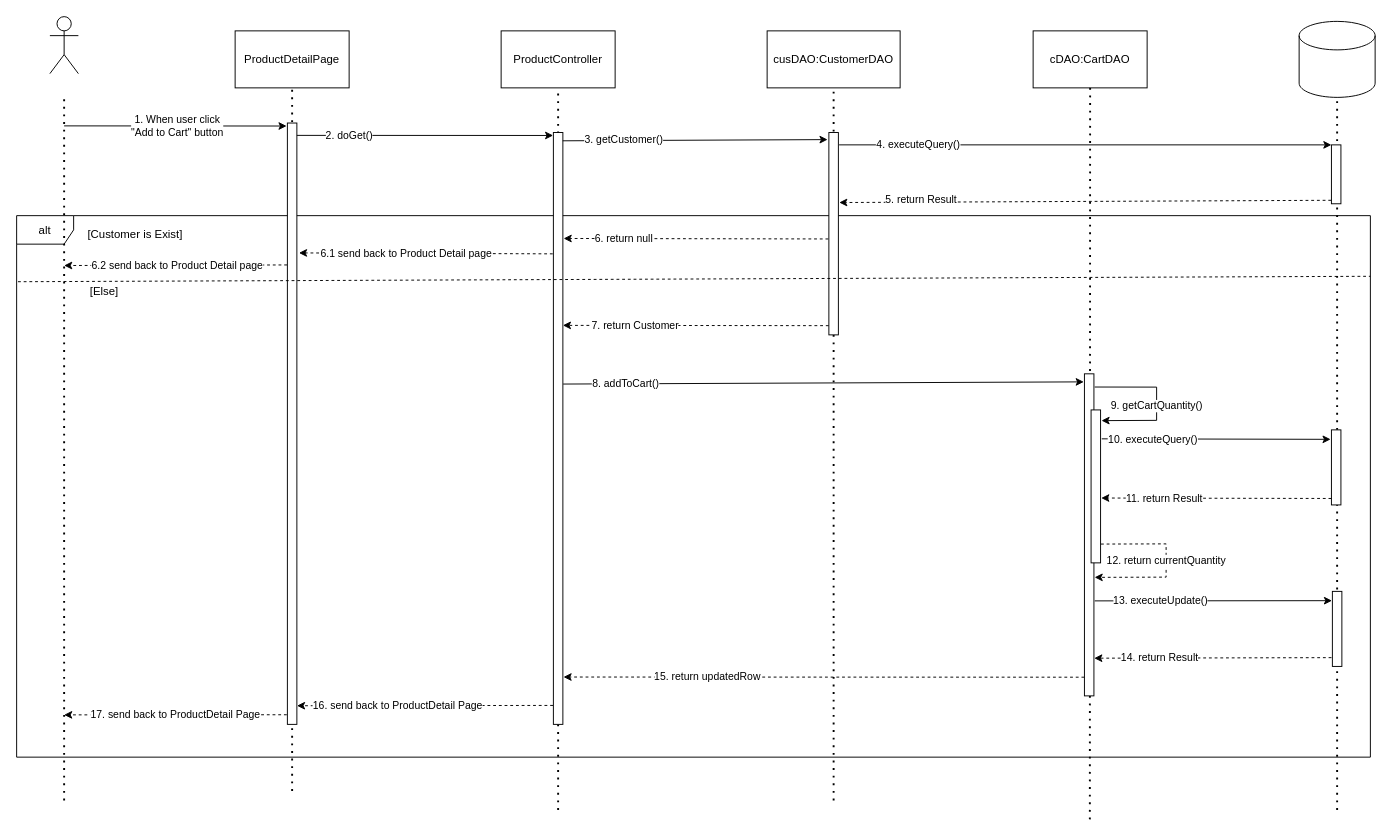
Image size: 1392x838. Some labels were removed from this diagram. The shapes that lost their labels are listed below. From the top down, each one's centre as x and y in pixels, then its label:
the point at 63,45: Customer
the point at 1336,58: DB
